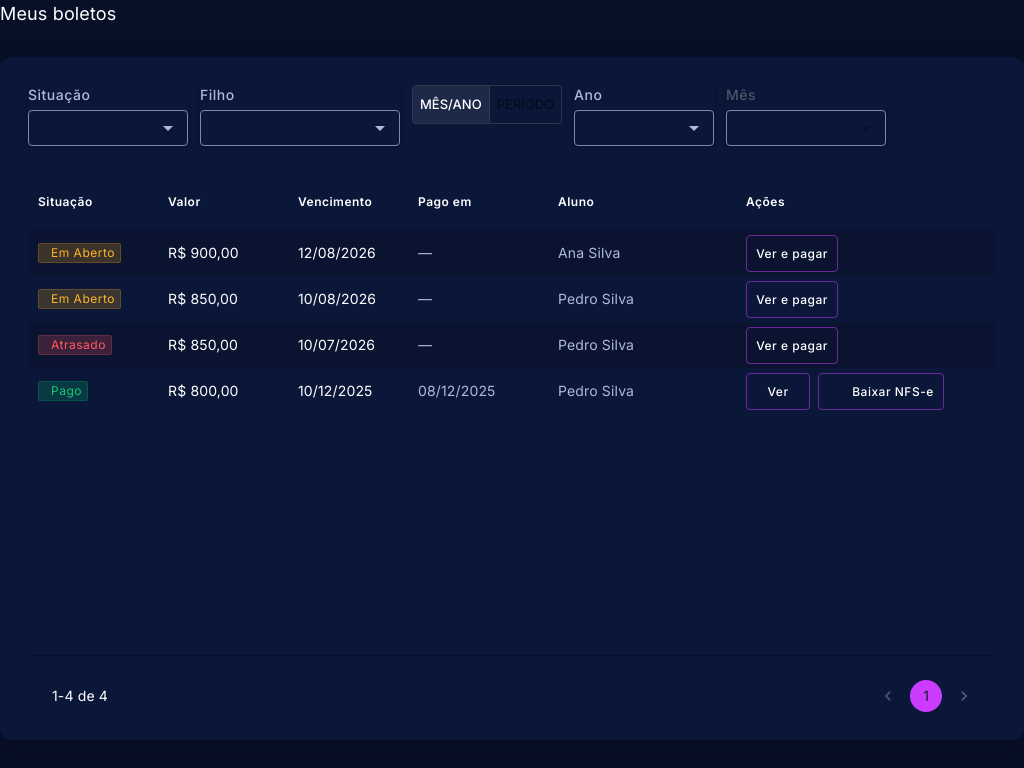
Scenario: MyCharges › opens detail with boleto and Pix, and reissues second copy
Click the button "Ver e pagar" in the row of "10/08/2026" at (792, 299), box x1=746 y1=281 x2=838 y2=318
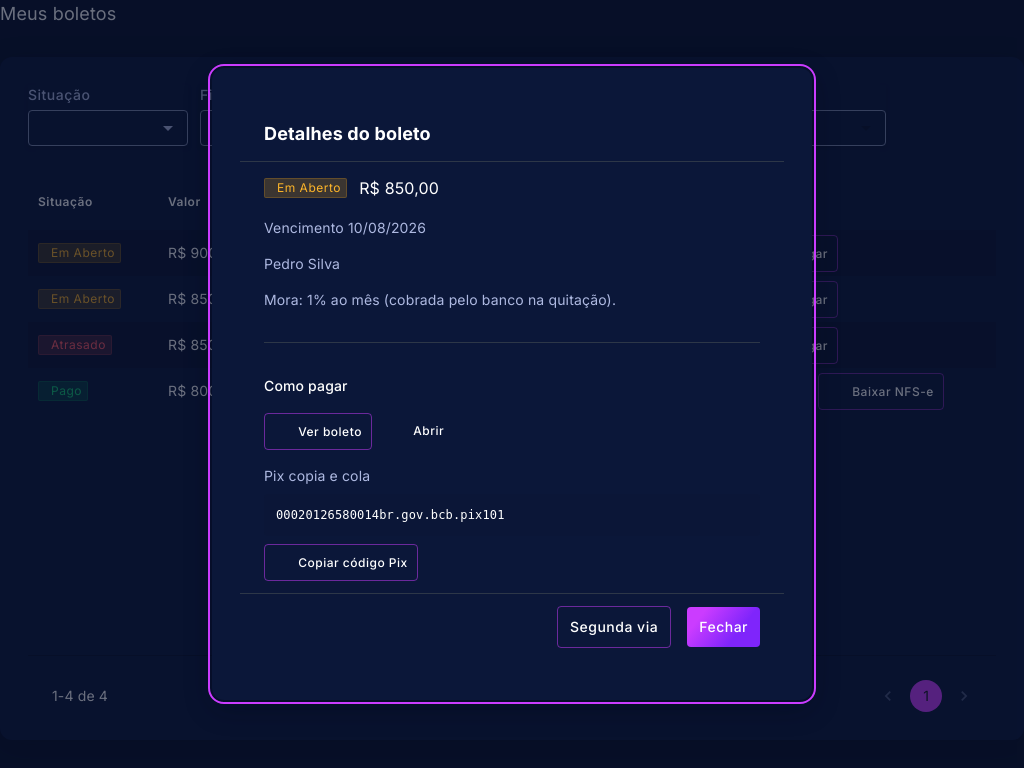
Check: the heading "Detalhes do boleto" is shown, box x1=264 y1=123 x2=431 y2=144
Check: the text "00020126580014br.gov.bcb.pix101" is shown, box x1=264 y1=494 x2=760 y2=536
Click the button "Copiar código Pix" at (341, 562), box x1=264 y1=544 x2=418 y2=581
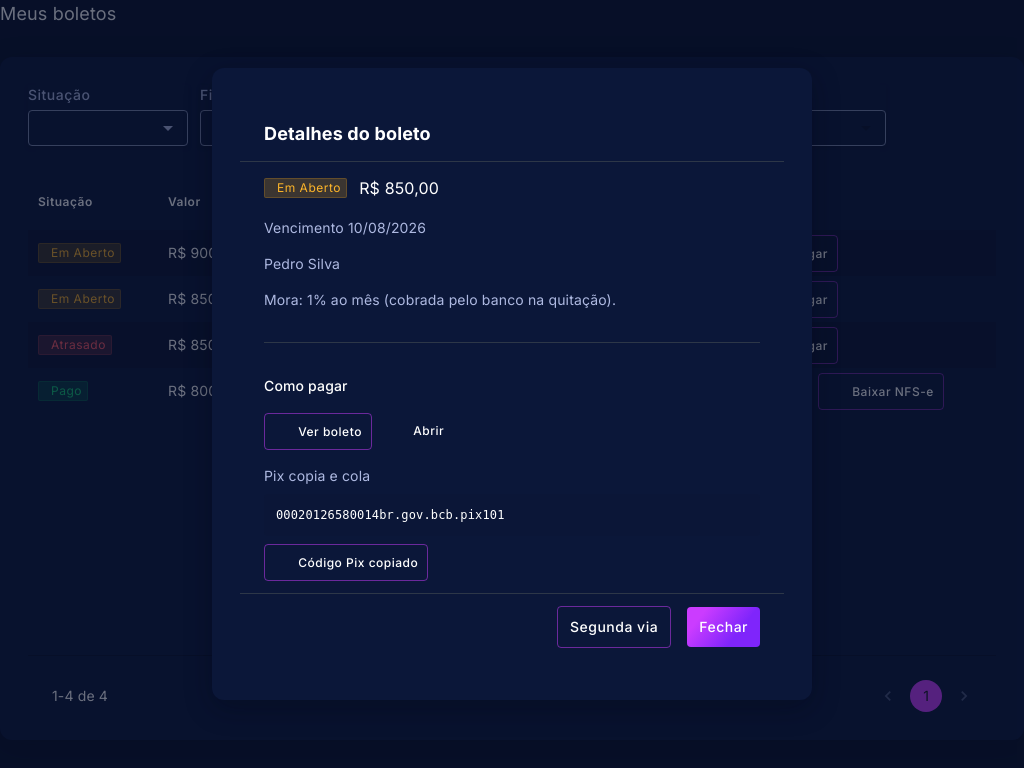
Click the button "Segunda via" at (614, 627), box x1=557 y1=606 x2=671 y2=648
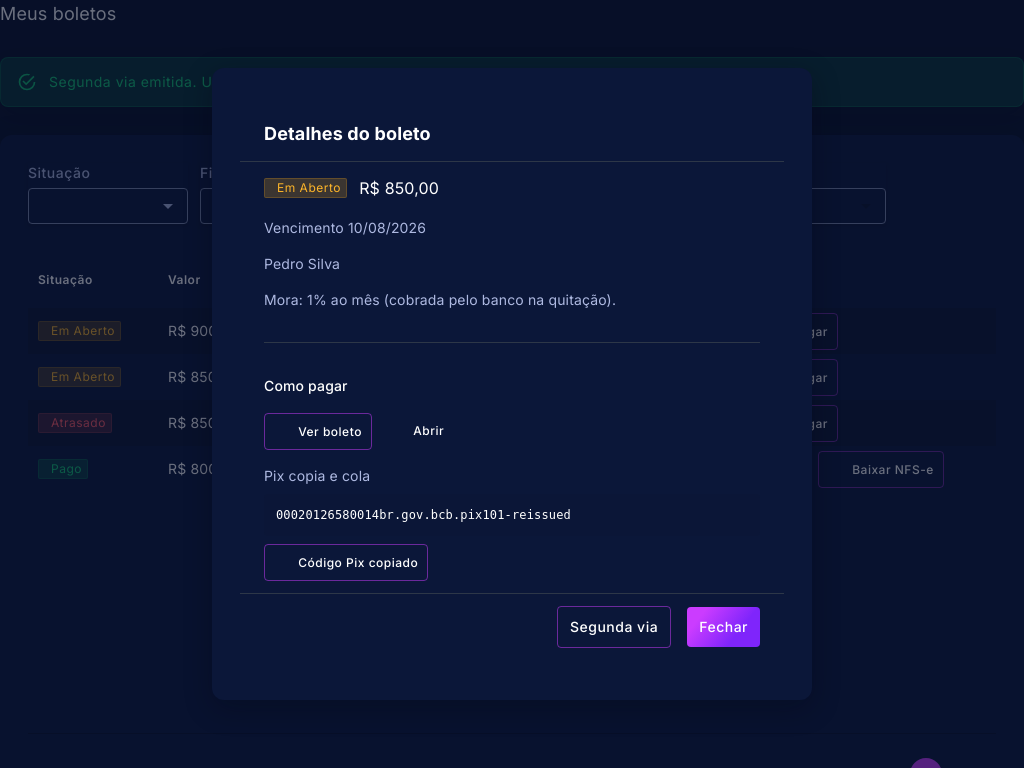
Check: the text "Segunda via emitida. Use o novo boleto ou código Pix acima." is shown, box x1=49 y1=73 x2=482 y2=90
